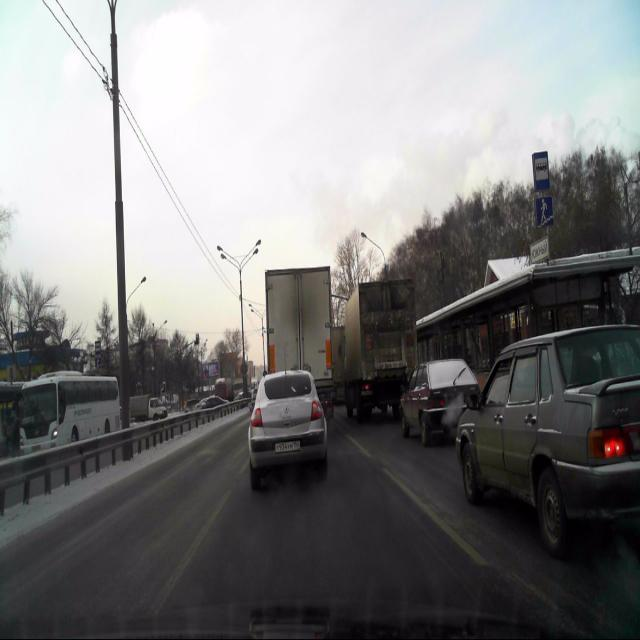road sign: (532, 150, 549, 191), (536, 195, 552, 227)
